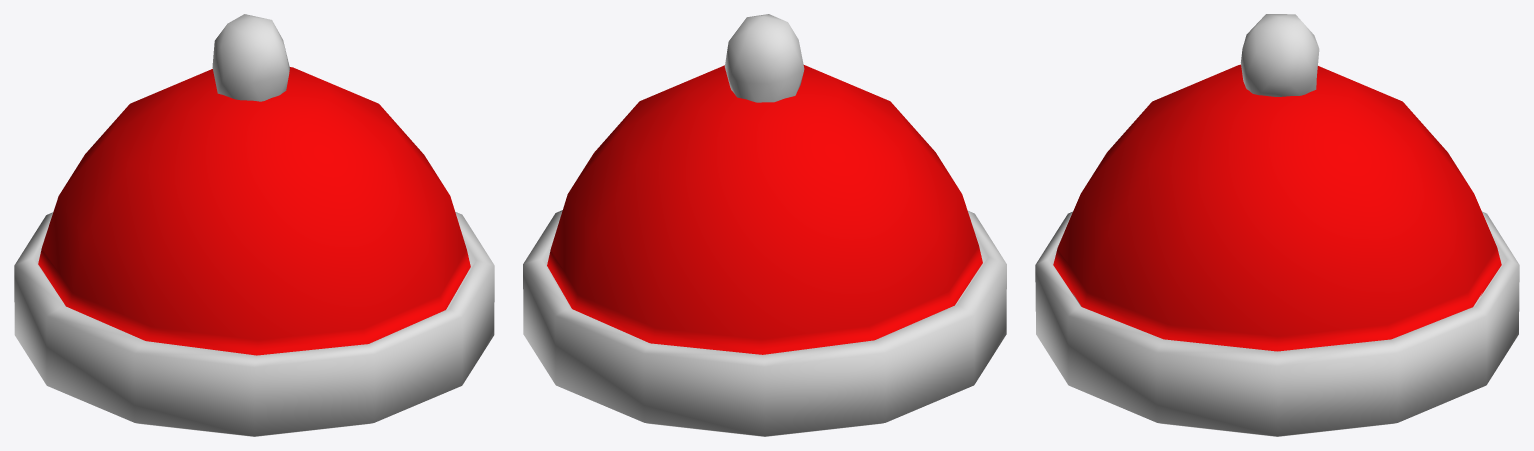
File: Hat_7.FBX
The picture shows the model from 3 angles, left to right: view 1: azimuth 30°, elevation 25°; view 2: azimuth 150°, elevation 25°; view 3: azimuth 270°, elevation 25°; orthographic projection.
Visible parts, largest first — view 1: GeoSphere001; view 2: GeoSphere001; view 3: GeoSphere001.
Part boxes in pixels (x1,y1,x2,y2): GeoSphere001: (14,14,494,436); GeoSphere001: (523,14,1006,436); GeoSphere001: (1035,14,1519,436).
Size of the model in its own units: 38.88 by 28.6 by 38.96.
